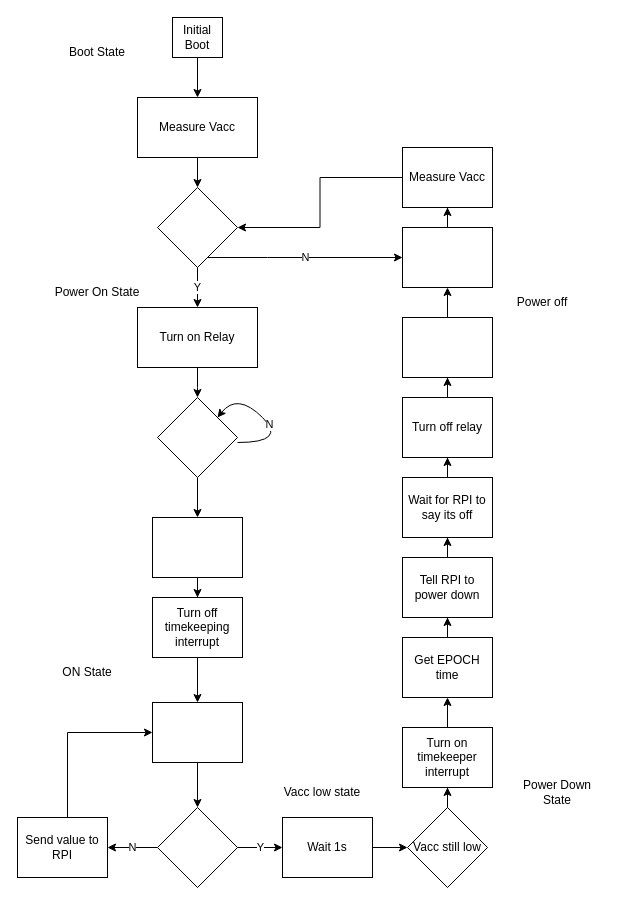
Some shapes in this 625 by 905 pixel diagram are drawn without their labels. Here are the shapes that lost their labels. From the top down, the centre of each, then its label:
[197,227]: Vacc High?
[447,257]: Wake every 1s
[447,347]: Set low power mode (except timer interrupt)
[197,437]: RPI On?
[197,547]: Update Current Time
[197,732]: Measure Voltage
[197,847]: Vacc below 11V
